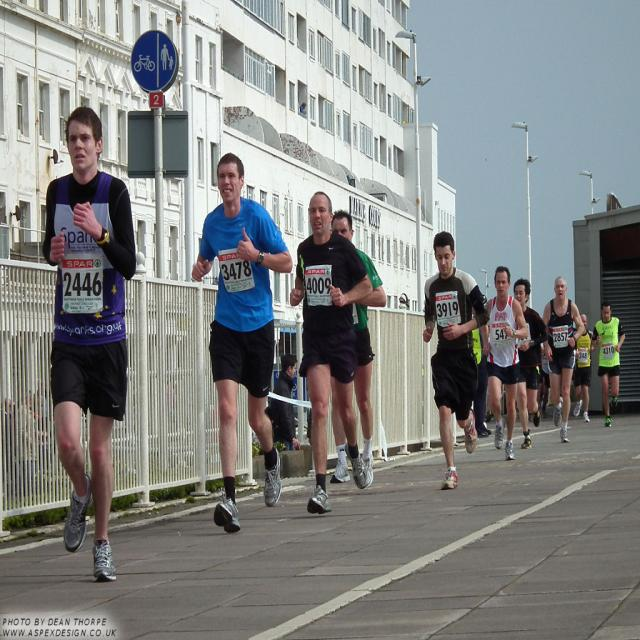Bib: (61, 270, 107, 298), (220, 264, 251, 284), (306, 278, 332, 297), (438, 302, 465, 320), (551, 330, 569, 343), (492, 328, 506, 342), (602, 347, 614, 355)
